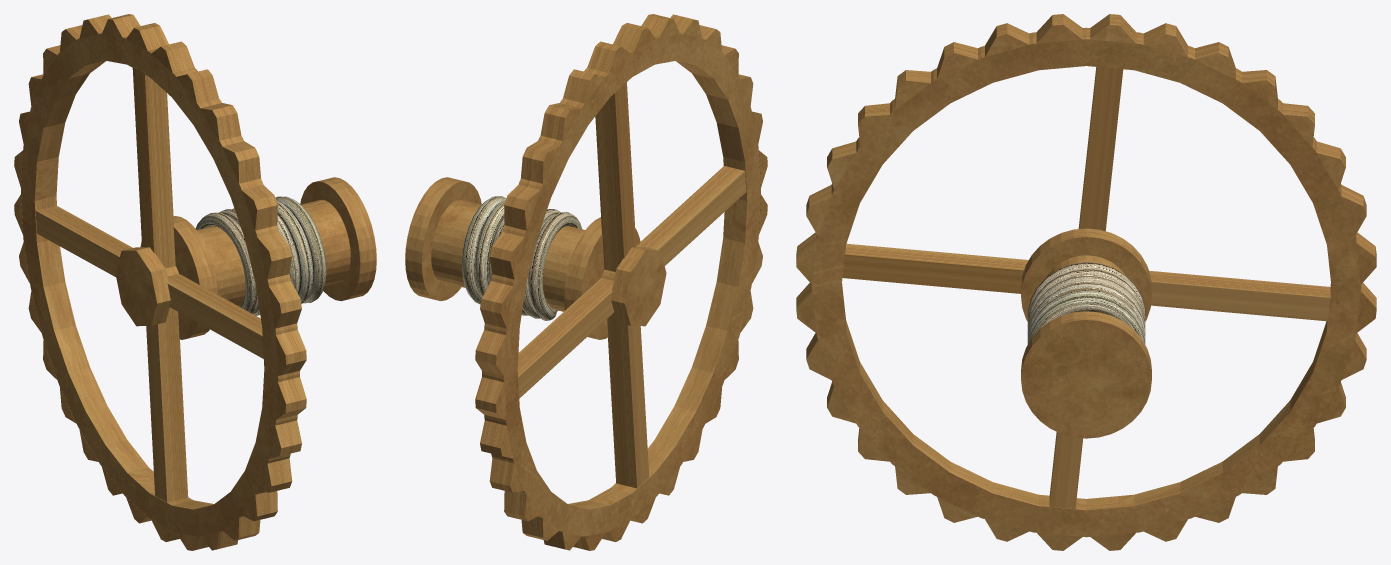
Rendered from GearWheel.fbx.
3 views of the same model, side by side, from view 1: azimuth 30°, elevation 25°; view 2: azimuth 150°, elevation 25°; view 3: azimuth 270°, elevation 25° (orthographic). The views are drawn at different scales.
Visible parts, largest first — view 1: RouePrincipale, CordeEnroulee, RouleauCorde, RouleauDisque2, PieceOctogonale, RouleauDisque1; view 2: RouePrincipale, CordeEnroulee, RouleauCorde, RouleauDisque2, PieceOctogonale, RouleauDisque1; view 3: RouePrincipale, RouleauDisque2, CordeEnroulee, RouleauDisque1.
Part boxes in pixels (<box>): RouePrincipale: <box>14,14,306,550</box>; CordeEnroulee: <box>195,196,326,315</box>; RouleauCorde: <box>196,199,350,306</box>; RouleauDisque2: <box>300,177,376,301</box>; PieceOctogonale: <box>115,247,170,326</box>; RouleauDisque1: <box>140,216,217,339</box>; RouePrincipale: <box>475,14,767,550</box>; CordeEnroulee: <box>462,196,581,320</box>; RouleauCorde: <box>431,199,585,311</box>; RouleauDisque2: <box>405,177,481,301</box>; PieceOctogonale: <box>611,247,666,326</box>; RouleauDisque1: <box>564,217,640,339</box>; RouePrincipale: <box>796,14,1376,550</box>; RouleauDisque2: <box>1021,311,1151,438</box>; CordeEnroulee: <box>1027,262,1145,344</box>; RouleauDisque1: <box>1021,228,1151,321</box>.
Size of the model in its own units: 95.93 by 215 by 215.
2 materials, 2 textured.
